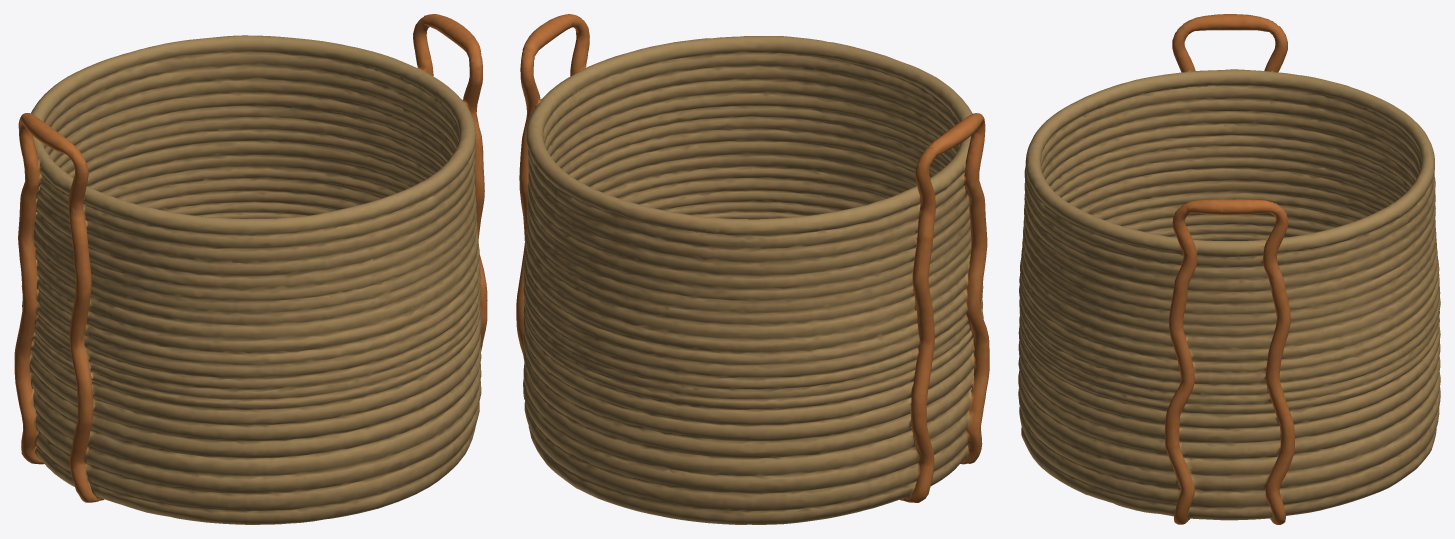
Rendered from niche-basket-coiled-fiber.glb.
3 renders of one model, left to right at view 1: azimuth 30°, elevation 25°; view 2: azimuth 150°, elevation 25°; view 3: azimuth 270°, elevation 25°, orthographic. The views are drawn at different scales.
Visible parts, largest first — view 1: world; view 2: world; view 3: world.
Part boxes in pixels (bbox=[...]): world: bbox=[14, 14, 487, 524]; world: bbox=[516, 14, 989, 524]; world: bbox=[1018, 14, 1440, 524].
Bounding box in the file's own units: 1 × 0.8054 × 0.9286.
1 material, 1 textured.
